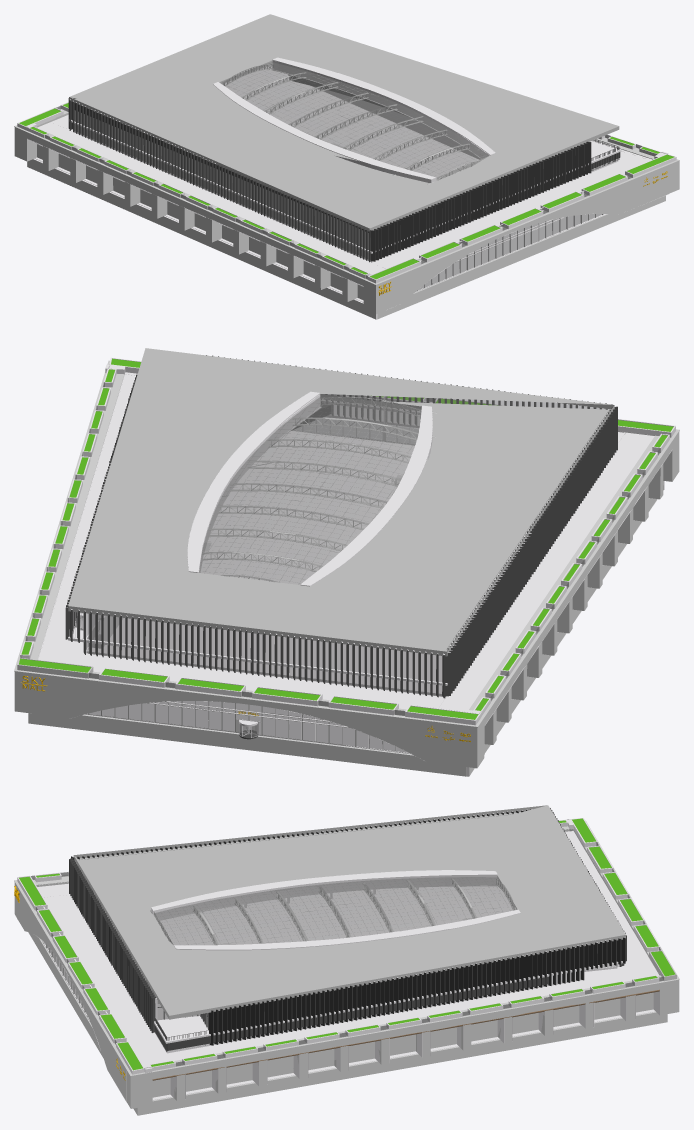
The model's file is Skymall_Import3DFile_Project.glb.
3 renders of one model, top to bottom at view 1: azimuth 30°, elevation 25°; view 2: azimuth 150°, elevation 25°; view 3: azimuth 270°, elevation 25°, orthographic. The views are drawn at different scales.
Visible parts, largest first — view 1: mesh_material_from_multipatch_9, mesh_material_from_multipatch_4, mesh_material_from_multipatch_8, mesh_material_from_multipatch_11, mesh_material_from_multipatch_2, mesh_material_from_multipatch_15, mesh_material_from_multipatch, mesh_material_from_multipatch_16, mesh_material_from_multipatch_7; view 2: mesh_material_from_multipatch_9, mesh_material_from_multipatch_4, mesh_material_from_multipatch_2, mesh_material_from_multipatch_8, mesh_material_from_multipatch_15, mesh_material_from_multipatch_11, mesh_material_from_multipatch_1, mesh_material_from_multipatch, mesh_material_from_multipatch_16, mesh_material_from_multipatch_7; view 3: mesh_material_from_multipatch_9, mesh_material_from_multipatch_4, mesh_material_from_multipatch_8, mesh_material_from_multipatch_11, mesh_material_from_multipatch_2, mesh_material_from_multipatch_15, mesh_material_from_multipatch, mesh_material_from_multipatch_5, mesh_material_from_multipatch_7.
Boxes of the visible parts, x1,y1,x2,y2 form: mesh_material_from_multipatch_9: (69,14,619,259); mesh_material_from_multipatch_4: (17,57,676,319); mesh_material_from_multipatch_8: (14,64,679,319); mesh_material_from_multipatch_11: (68,75,620,262); mesh_material_from_multipatch_2: (221,63,601,289); mesh_material_from_multipatch_15: (37,74,652,274); mesh_material_from_multipatch: (19,103,674,279); mesh_material_from_multipatch_16: (416,191,603,291); mesh_material_from_multipatch_7: (26,62,665,279); mesh_material_from_multipatch_9: (68,348,614,656); mesh_material_from_multipatch_4: (20,357,675,776); mesh_material_from_multipatch_2: (88,395,424,752); mesh_material_from_multipatch_8: (14,360,679,776); mesh_material_from_multipatch_15: (37,372,653,727); mesh_material_from_multipatch_11: (65,355,617,739); mesh_material_from_multipatch_1: (80,394,608,696); mesh_material_from_multipatch: (19,358,673,719); mesh_material_from_multipatch_16: (86,423,410,753); mesh_material_from_multipatch_7: (20,366,670,731); mesh_material_from_multipatch_9: (73,805,625,1019); mesh_material_from_multipatch_4: (17,807,660,1102); mesh_material_from_multipatch_8: (14,820,679,1115); mesh_material_from_multipatch_11: (69,808,626,1051); mesh_material_from_multipatch_2: (44,877,516,1029); mesh_material_from_multipatch_15: (37,829,659,1064); mesh_material_from_multipatch: (19,818,675,1070); mesh_material_from_multipatch_5: (152,989,659,1080); mesh_material_from_multipatch_7: (31,819,663,1068).
Size of the model in its own units: 143 by 22.03 by 157.
